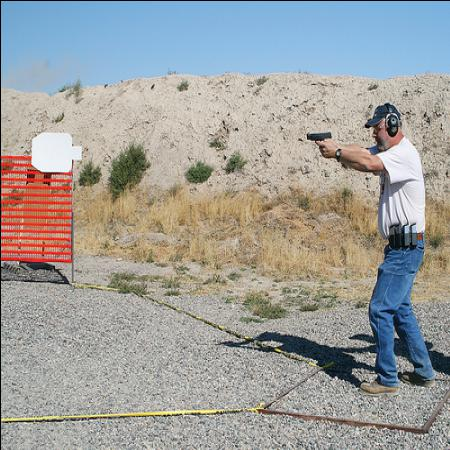Pistol: (304, 128, 330, 148)
